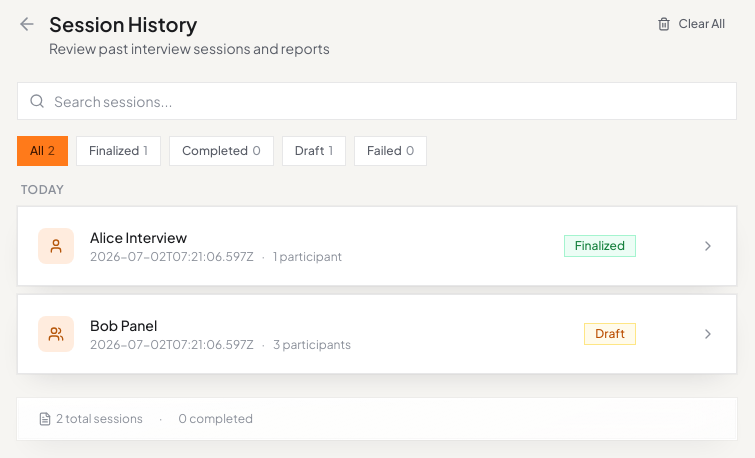
Test: HistoryView › filters sessions by status chip
// Click the Finalized filter chip
Step 1. Click the button "Finalized 1" → (118, 151), box [76,136,161,166]
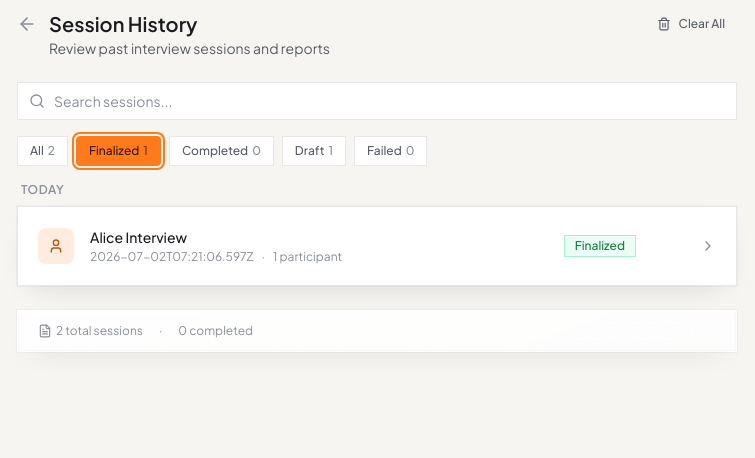
Check: the text "Alice Interview" is shown, box [90,228,187,246]
Check: the text "Bob Panel" is gone
